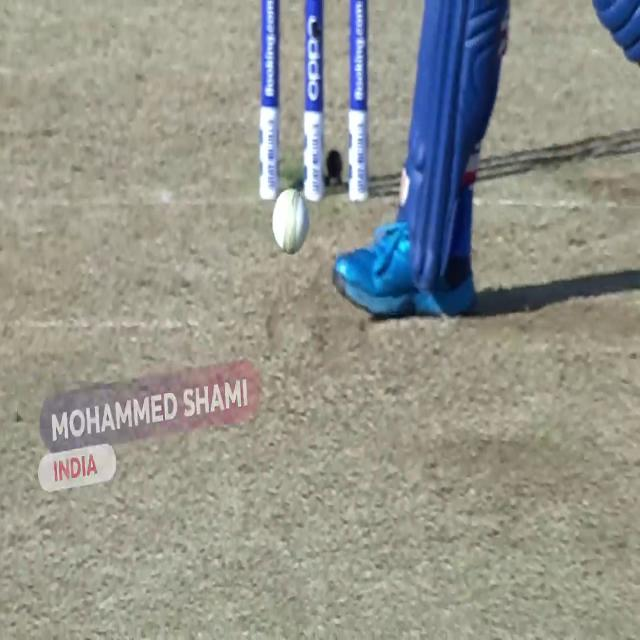ball: (272, 187, 312, 257)
